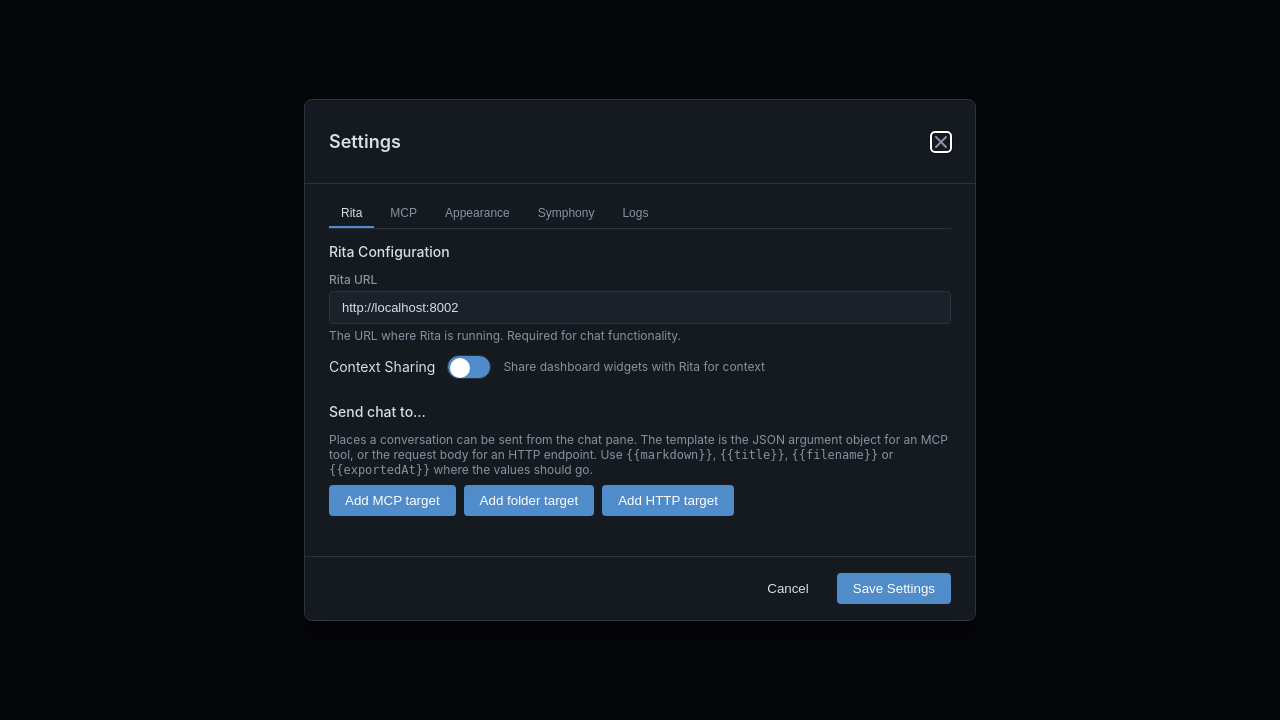
Test: SettingsDialog › tabs › keeps an edit made on one tab when another tab is visited
Type "http://localhost:9999" into the field labelled "Rita URL".
click(640, 307); type("http://localhost:9999")  # box [329,291,951,324]
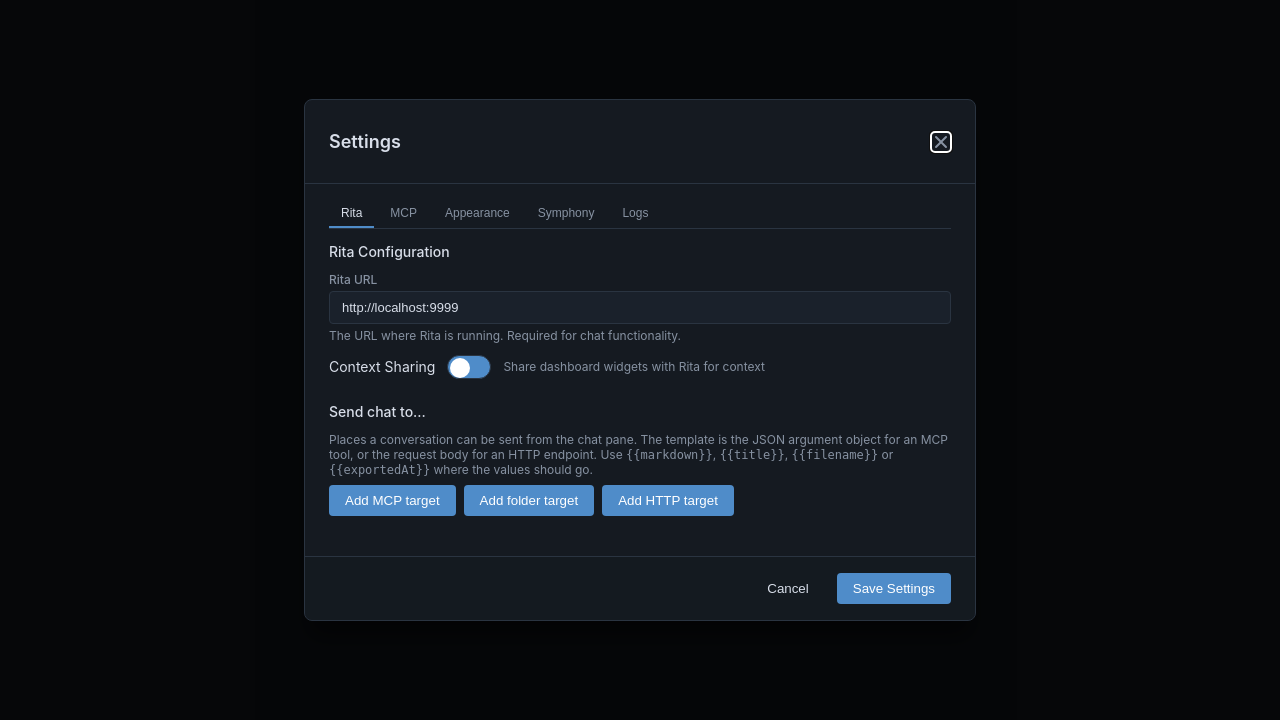
Click the tab "Logs".
click(635, 214)  # box [610,200,660,228]
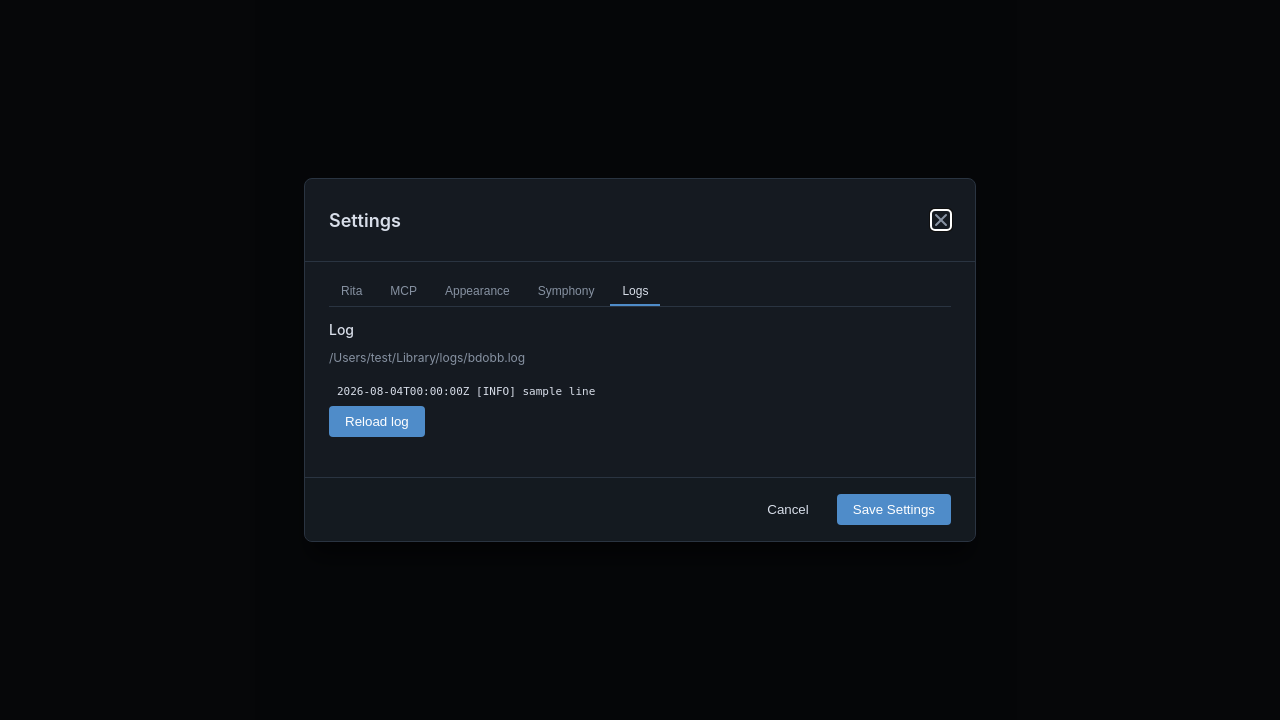
Click the tab "Rita".
click(352, 292)  # box [329,278,374,306]
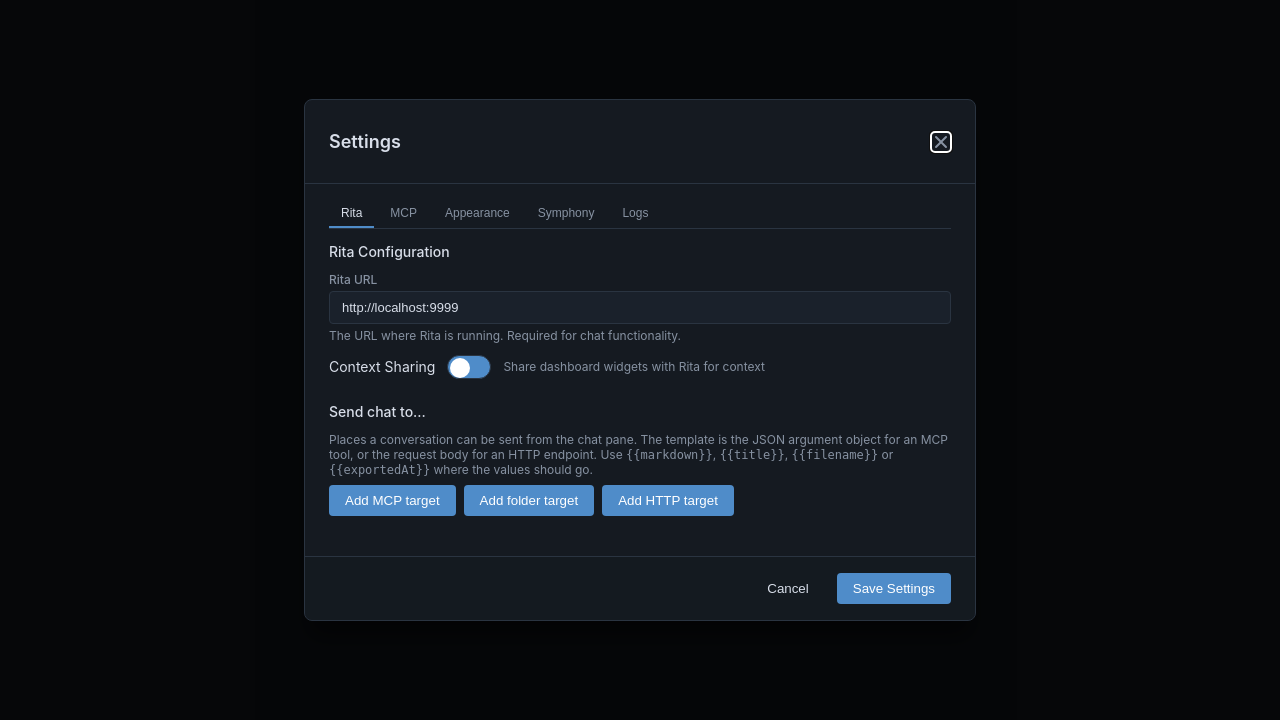
expect the field labelled "Rita URL" holds "http://localhost:9999": met, box [329,291,951,324]
